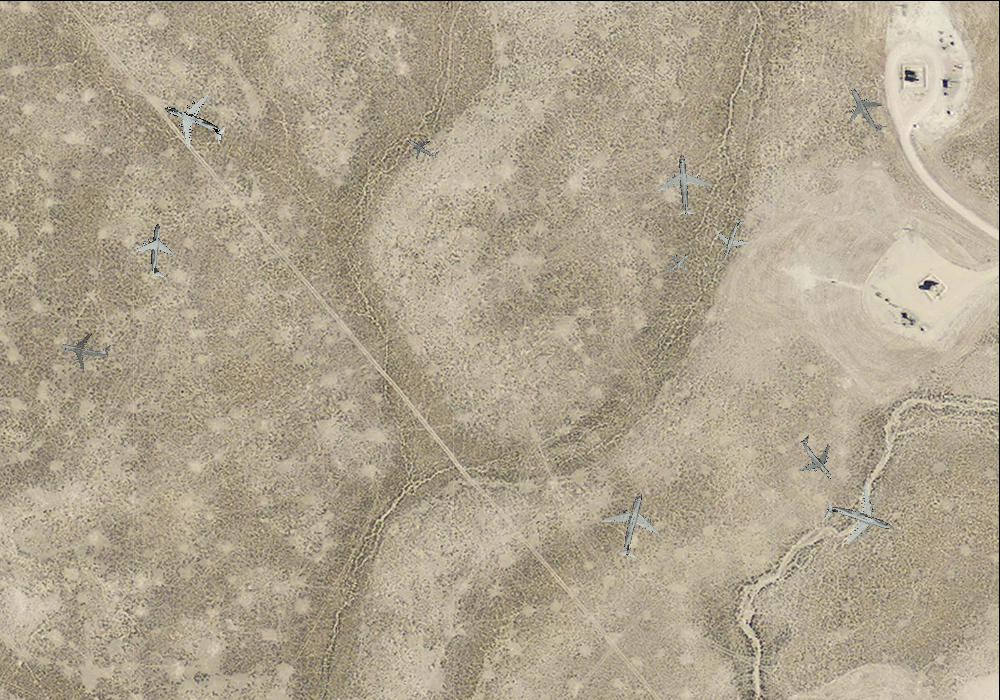plane: (815, 475, 902, 561), (153, 81, 235, 162), (594, 484, 673, 565), (784, 425, 850, 491), (834, 76, 899, 143), (653, 152, 714, 217), (54, 321, 114, 376), (130, 220, 184, 280), (706, 211, 758, 265), (401, 126, 444, 168), (658, 243, 697, 282)
